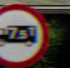Heavy Vehicles: (1, 1, 53, 67)
